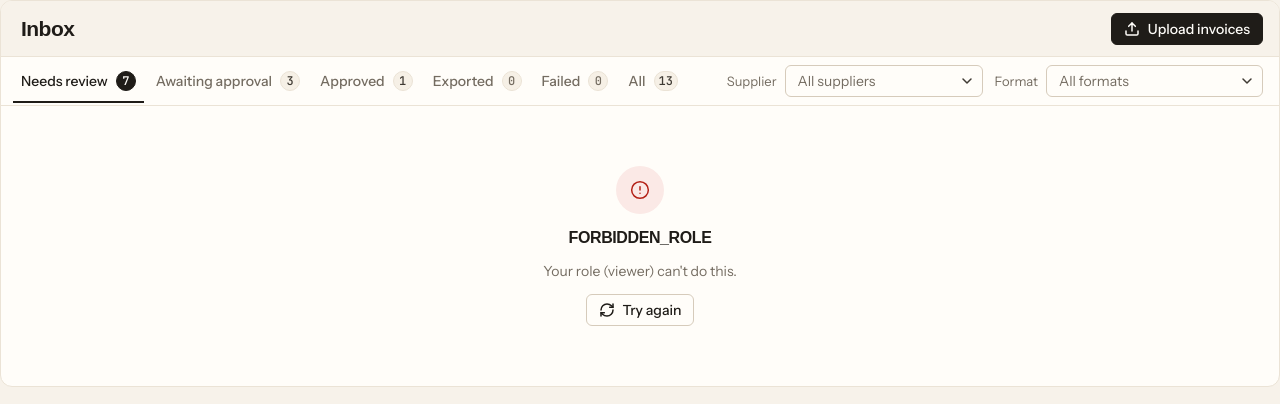
Scenario: InboxView › shows the problem and retries
The width and height of the screenshot is (1280, 404).
Check: the message "FORBIDDEN_ROLE Your role (viewer) can't do this. Try again" is shown, box [543, 166, 737, 326]
What coordinates should you click on to do the following:
click the button "Try again"
I would click on:
 (640, 310)
Its box is [586, 294, 694, 326].
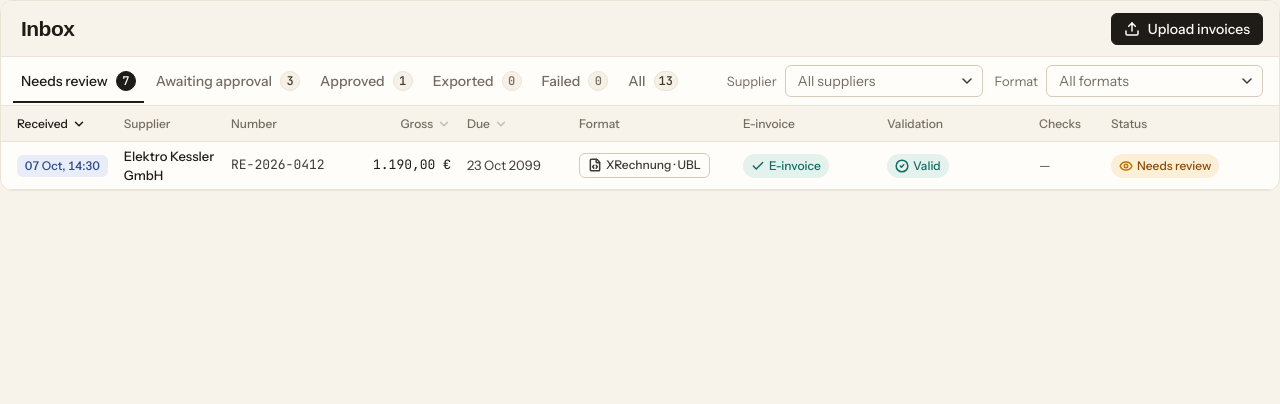
Check: the text "RE-2026-0412" is shown, box [223, 142, 347, 190]
